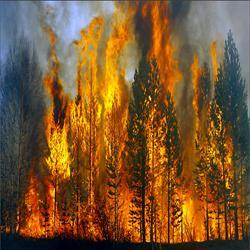fire: (151, 6, 178, 76), (108, 34, 132, 108), (171, 194, 204, 242), (48, 127, 69, 172), (119, 179, 137, 231), (28, 181, 40, 239)
